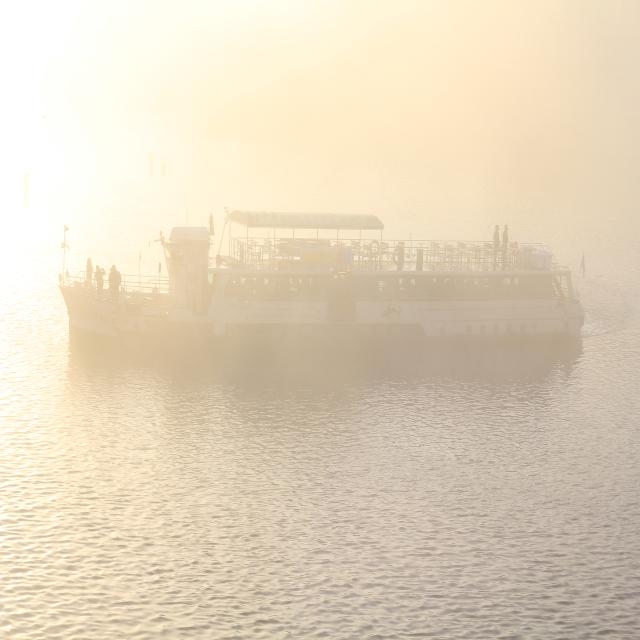fishing boat: (55, 192, 582, 365)
